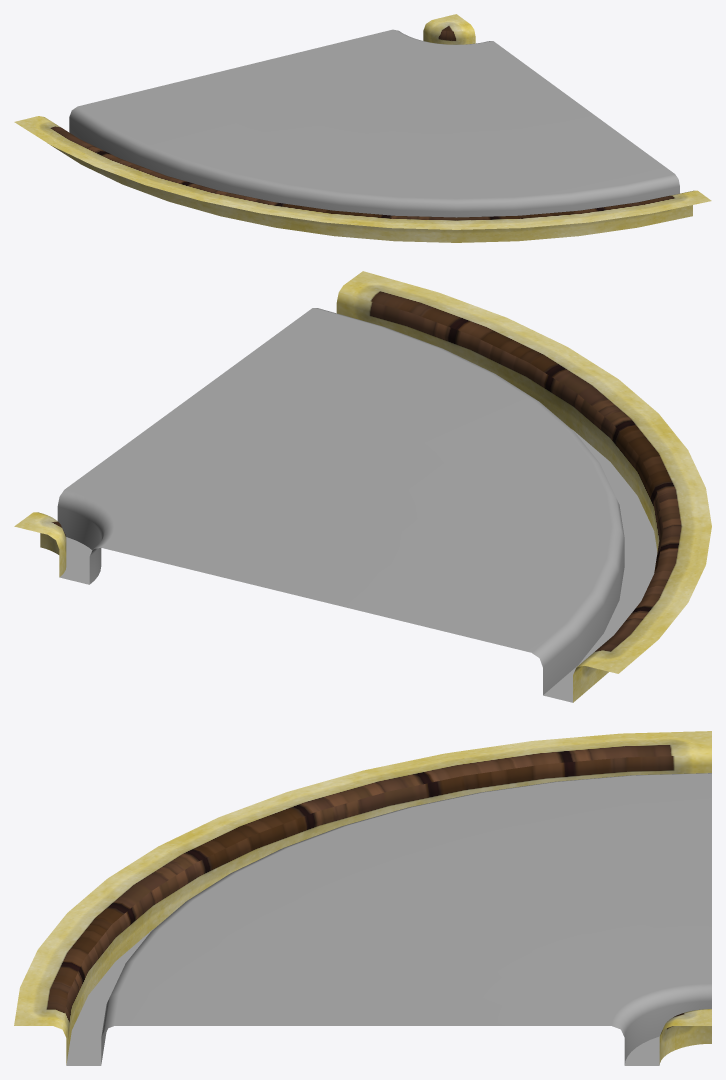
File: Env_Cnt_Conveyor_Curved_L.fbx
3 renders of one model, top to bottom at view 1: azimuth 30°, elevation 25°; view 2: azimuth 150°, elevation 25°; view 3: azimuth 270°, elevation 25°, orthographic. The views are drawn at different scales.
Visible parts, largest first — view 1: Convery_Curved_L; view 2: Convery_Curved_L; view 3: Convery_Curved_L.
Part boxes in pixels (x1,y1,x2,y2): Convery_Curved_L: (14, 14, 711, 242); Convery_Curved_L: (14, 271, 711, 702); Convery_Curved_L: (14, 731, 711, 1065).
Size of the model in its own units: 100 by 6.31 by 100.
